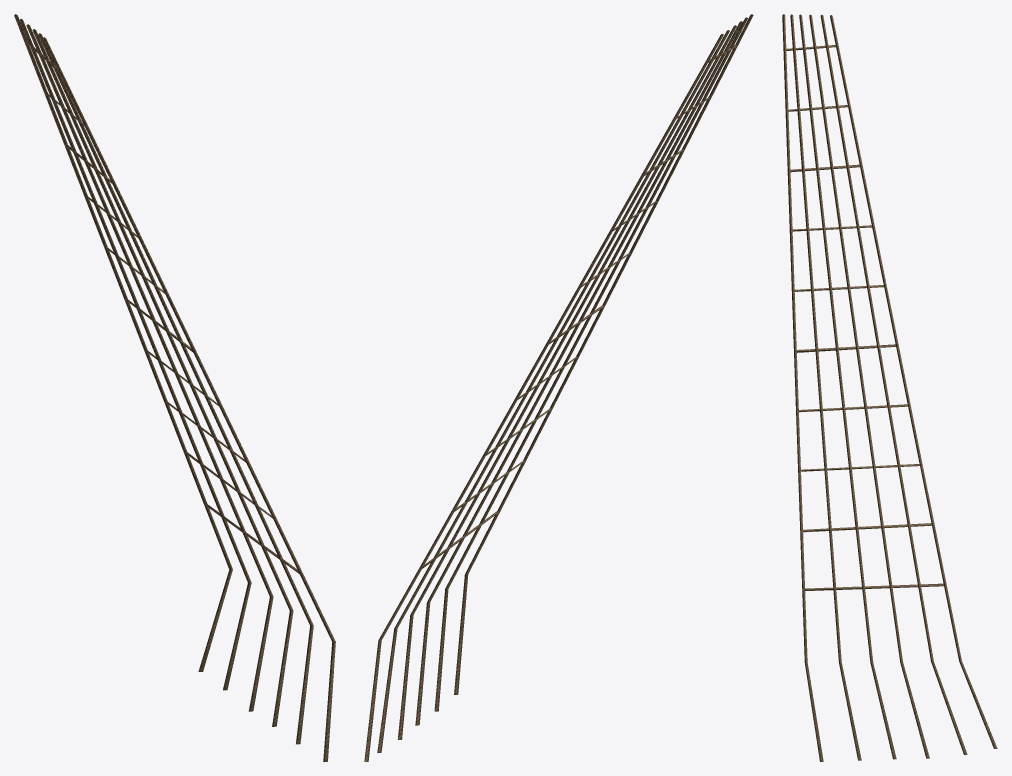
The model's file is left_rope.fbx.
3 views of the same model, side by side, from view 1: azimuth 30°, elevation 25°; view 2: azimuth 150°, elevation 25°; view 3: azimuth 270°, elevation 25° (orthographic). The views are drawn at different scales.
Parts seen in each view (by area): view 1: left_rope; view 2: left_rope; view 3: left_rope.
Part boxes in pixels (bbox=[...]): left_rope: bbox=[14, 14, 335, 761]; left_rope: bbox=[364, 14, 753, 761]; left_rope: bbox=[782, 14, 997, 761].
Bounding box in the file's own units: 27.56 × 69.52 × 21.51.
